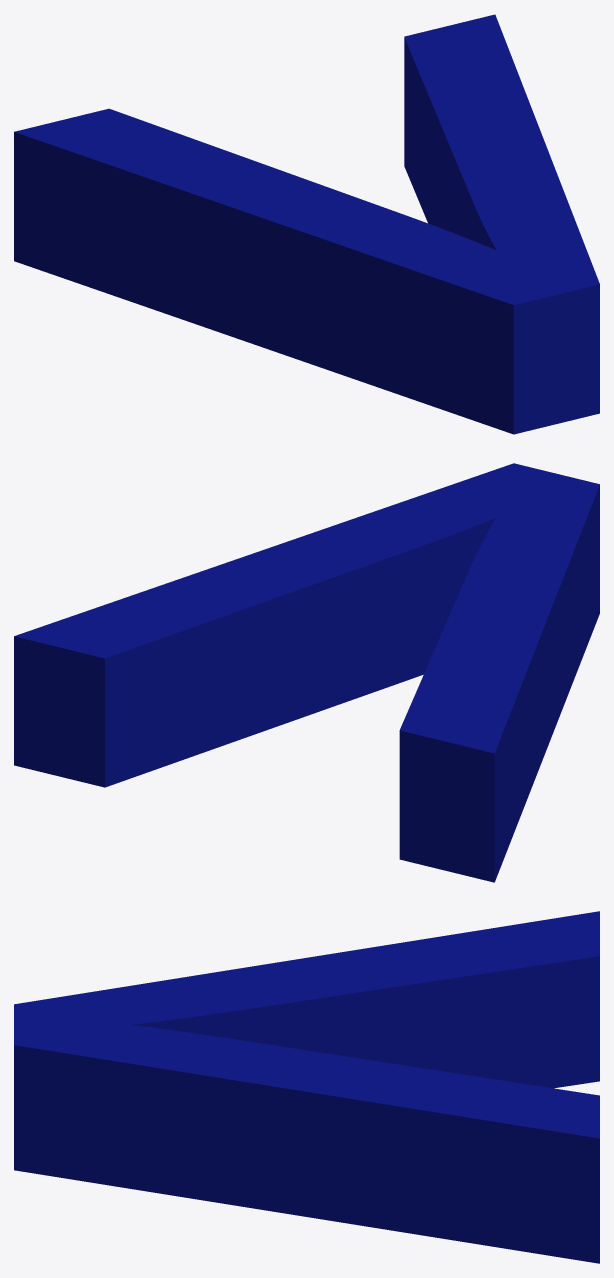
3 renders of one model, top to bottom at view 1: azimuth 30°, elevation 25°; view 2: azimuth 150°, elevation 25°; view 3: azimuth 270°, elevation 25°, orthographic. The views are drawn at different scales.
Parts seen in each view (by area): view 1: TextPlus070; view 2: TextPlus070; view 3: TextPlus070.
Boxes of the visible parts, x1,y1,x2,y2 form: TextPlus070: (14,14,599,434); TextPlus070: (14,463,599,882); TextPlus070: (14,911,599,1263).
Bounding box in the file's own units: 17.08 × 4.39 × 18.6.
